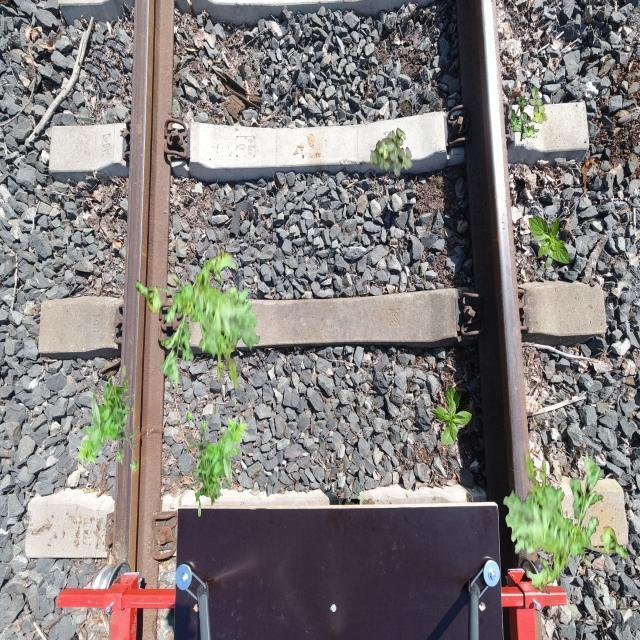Plant: (136, 246, 261, 393), (503, 448, 628, 595), (185, 409, 250, 516), (75, 365, 140, 472), (430, 385, 472, 445), (528, 215, 570, 268), (370, 128, 413, 178), (510, 87, 548, 142)
